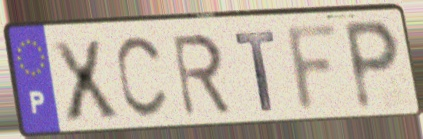C: (113, 33, 171, 123)
F: (283, 19, 343, 117)
P: (341, 16, 403, 115)
R: (168, 30, 235, 120)
T: (232, 28, 278, 115)
X: (47, 37, 122, 126)
